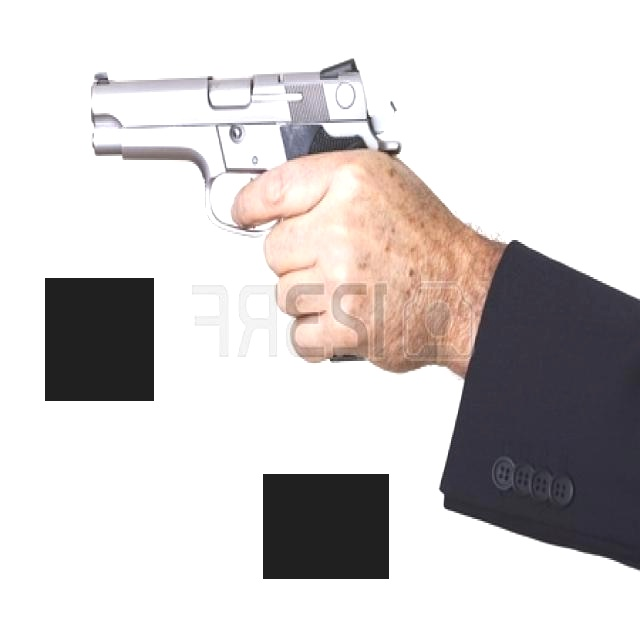gun: (63, 42, 422, 390)
